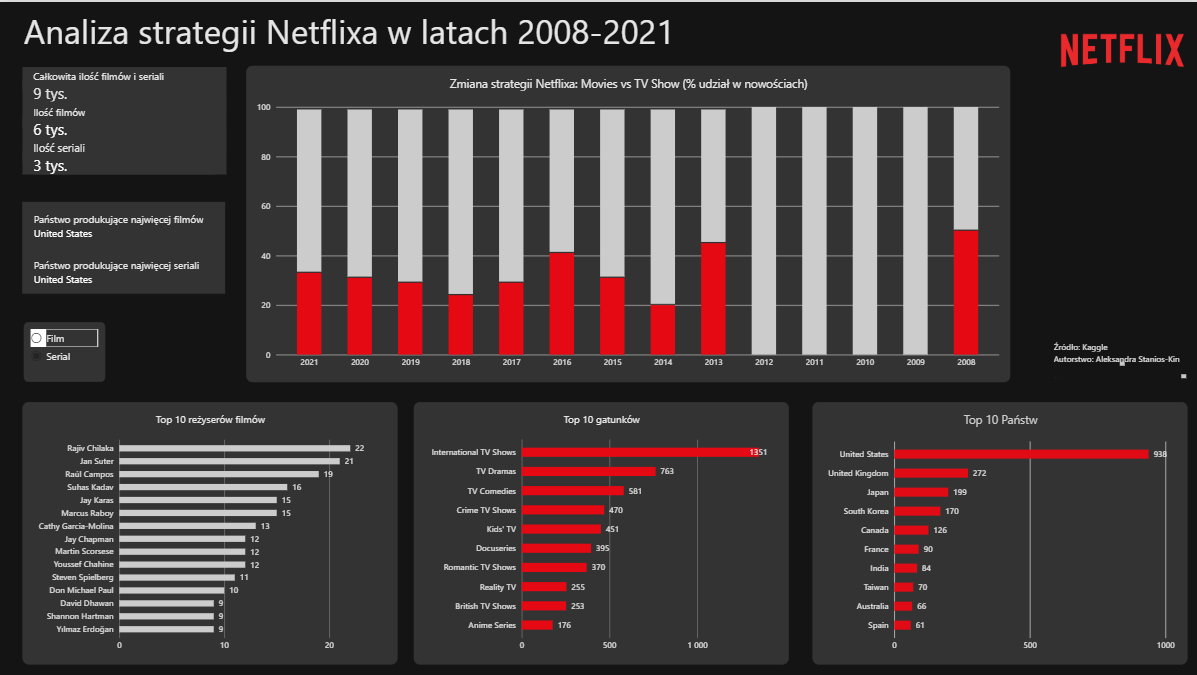

This screenshot's page, from the dashboard's own definition file:
{"tool":"powerbi","page":{"name":"Daschboard","canvas":[1920,1080],"ordinal":0},"visuals":[{"type":"image","box":[1672,0,247.9,155.6],"z":0},{"type":"textbox","title":"Analiza strategii Netflixa w latach 2008-2021","box":[38,10,1882,82],"z":1000},{"type":"textbox","box":[38,997.5,601,150],"z":2000},{"type":"cardVisual","fields":{"Data":["Sum(ILOSC_FILMOW.ilosc_calkowita)","Sum(ILOSC_FILMOW.ilosc_filmow)","Sum(ILOSC_FILMOW.ilosc_seriali)"]},"box":[36,104,326,172],"z":3000},{"type":"clusteredBarChart","title":"Top 10 gatunków","fields":{"Category":["gatunki filmów z podziałem film i serial.genres"],"Series":["gatunki filmów z podziałem film i serial.type"],"Y":["Sum(gatunki filmów z podziałem film i serial.total_sum)"]},"box":[662,640,600,420],"z":4000},{"type":"clusteredBarChart","title":"Top 10 reżyserów filmów","fields":{"Category":["top 15 rezyserów.director_name"],"Y":["Sum(top 15 rezyserów.movies_count)"]},"box":[36,640,600,420],"z":5000},{"type":"clusteredBarChart","title":"Top 10 Państw","fields":{"Category":["top 10 państw.country_name"],"Series":["top 10 państw.type"],"Y":["Sum(top 10 państw.country_total)"]},"box":[1300,640,600,420],"z":6000},{"type":"cardVisual","fields":{"Data":["Min(top 15 państw.country_name)","Min(top 10 państw.country_name)"]},"box":[36,319,324,146],"z":7000},{"type":"actionButton","box":[0,0,100,40],"z":8000},{"type":"textbox","title":"Źródło: Kaggle","box":[1685.3,541.3,113.3,40],"z":11000},{"type":"textbox","title":"Autorstwo: Aleksandra Stanios-Kin","box":[1685.3,561.3,211.7,40],"z":12000},{"type":"columnChart","title":"Zmiana strategii Netflixa: Movies vs TV Show (% udział w nowościach)","fields":{"Category":["film serial w latach (2).addition_year"],"Y":["Sum(film serial w latach (2).TV Show)","Sum(film serial w latach (2).movies_percent)"]},"box":[394,102,1222,506],"z":13000},{"type":"listSlicer","fields":{"Values":["Slownik_type.Słownik_type"]},"box":[38,512,130,96],"z":13001}]}

Visuals, with their boxes in screenshot pixels (x1, y1, x2, y2), scaled from the page's 1920x1080 canvas onto the 1197x675 screenshot:
image: detection(1042, 0, 1196, 97)
"Analiza strategii Netflixa w latach 2008-2021" textbox: detection(24, 6, 1196, 58)
textbox: detection(24, 623, 398, 674)
cardVisual - Sum(ILOSC_FILMOW.ilosc_calkowita) x Sum(ILOSC_FILMOW.ilosc_filmow): detection(22, 65, 226, 172)
"Top 10 gatunków" clusteredBarChart: detection(413, 400, 787, 662)
"Top 10 reżyserów filmów" clusteredBarChart: detection(22, 400, 397, 662)
"Top 10 Państw" clusteredBarChart: detection(810, 400, 1185, 662)
cardVisual - Min(top 15 państw.country_name) x Min(top 10 państw.country_name): detection(22, 199, 224, 291)
actionButton: detection(0, 0, 62, 25)
"Źródło: Kaggle" textbox: detection(1051, 338, 1121, 363)
"Autorstwo: Aleksandra Stanios-Kin" textbox: detection(1051, 351, 1183, 376)
"Zmiana strategii Netflixa: Movies vs TV Show (% udział w nowościach)" columnChart: detection(246, 64, 1007, 380)
listSlicer - Slownik_type.Słownik_type: detection(24, 320, 105, 380)
